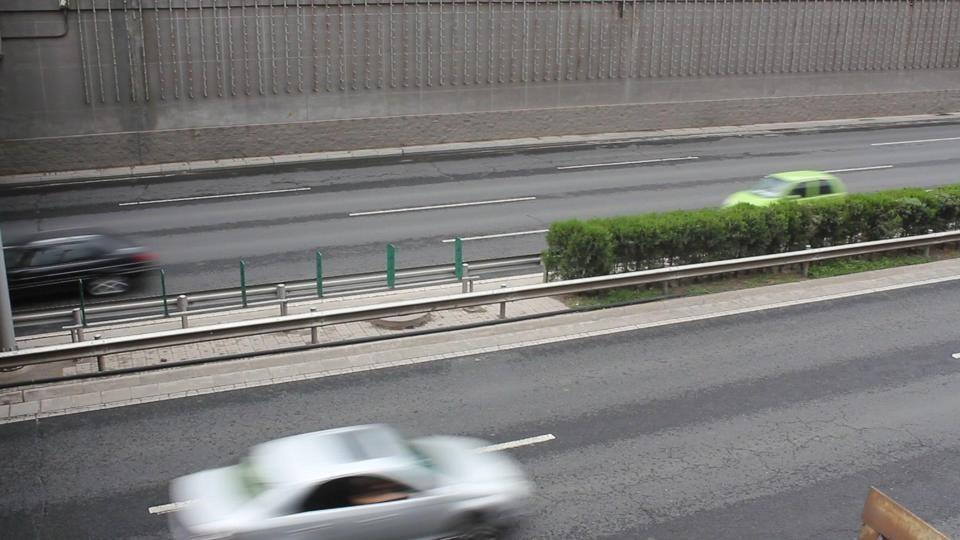car: (151, 423, 538, 538), (1, 232, 162, 301), (718, 170, 848, 210)
